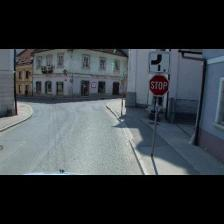Stop: (148, 73, 170, 97)
